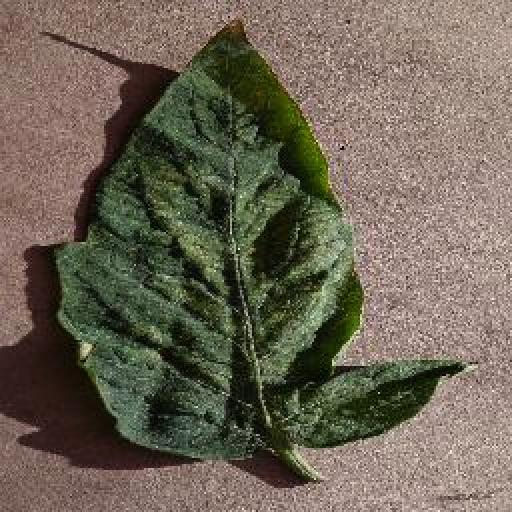disease_tomato: (56, 14, 480, 460)
